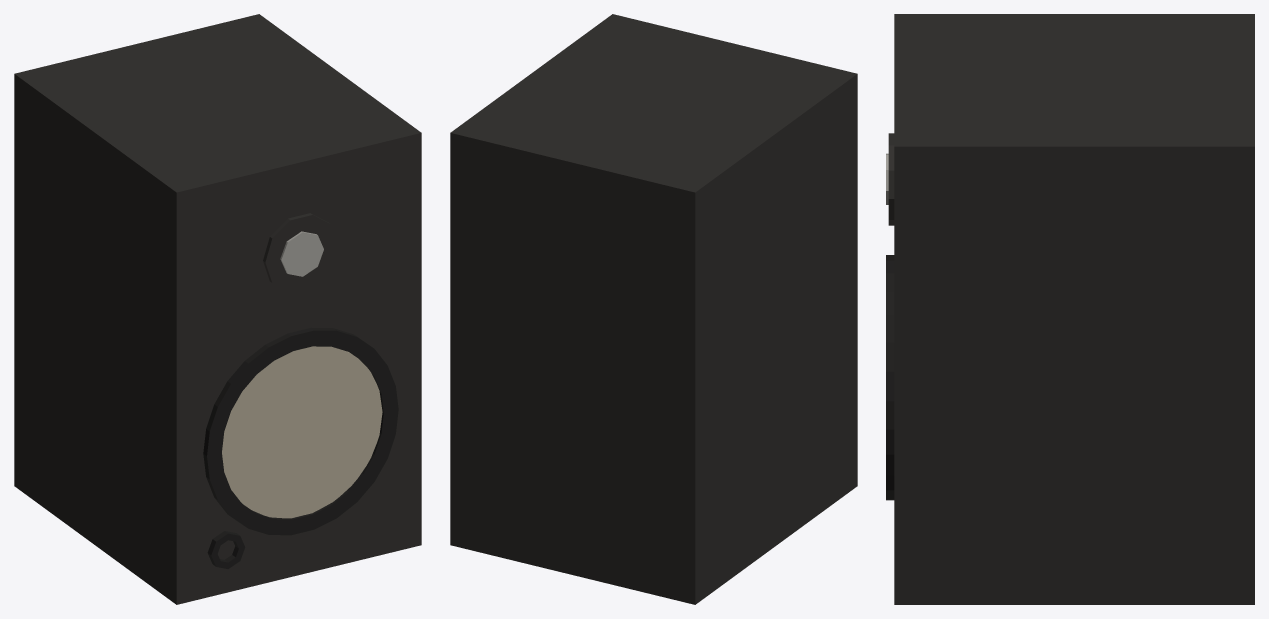
Rendered from studio-monitor.glb.
3 views of the same model, side by side, from view 1: azimuth 30°, elevation 25°; view 2: azimuth 150°, elevation 25°; view 3: azimuth 270°, elevation 25° (orthographic). The views are drawn at different scales.
Parts seen in each view (by area): view 1: plastic-dark, plastic-light, rubber, brushed; view 2: plastic-dark; view 3: plastic-dark, rubber.
Part boxes in pixels (x1=…): plastic-dark: x1=14, y1=14, x2=421, y2=604; plastic-light: x1=222, y1=346, x2=382, y2=518; rubber: x1=203, y1=327, x2=398, y2=568; brushed: x1=280, y1=231, x2=323, y2=276; plastic-dark: x1=450, y1=14, x2=857, y2=604; plastic-dark: x1=888, y1=14, x2=1254, y2=604; rubber: x1=886, y1=255, x2=894, y2=500.
Bounding box in the file's own units: 0.23 × 0.37 × 0.27.
